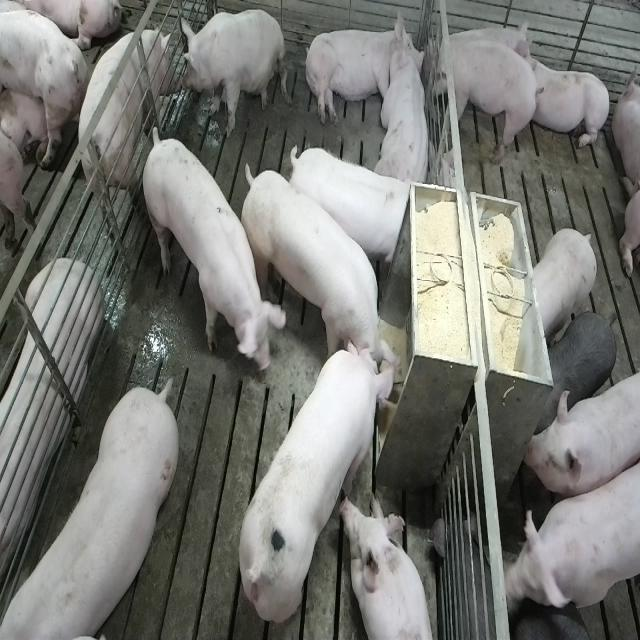Feeding: (236, 338, 400, 626), (235, 156, 399, 382)
Lateral_lying: (303, 11, 427, 128)
Sitting: (180, 8, 286, 138)
Standing: (0, 383, 176, 640), (139, 122, 279, 374), (504, 445, 638, 618), (79, 26, 179, 236), (286, 144, 416, 272), (523, 367, 637, 497), (431, 30, 538, 167), (0, 0, 79, 161), (539, 309, 617, 424), (530, 228, 598, 344), (510, 607, 601, 640)
Sternal_lying: (0, 260, 100, 603), (345, 494, 438, 640), (377, 24, 434, 190), (525, 48, 612, 154), (466, 18, 536, 76)
